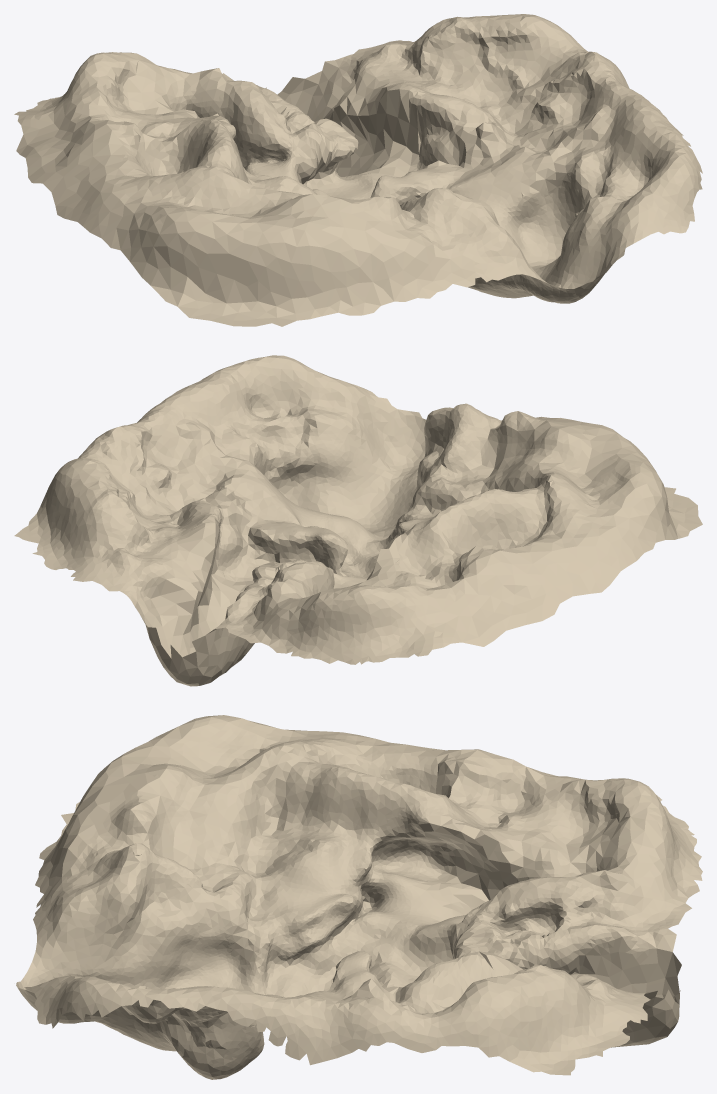
File: Environment.fbx
3 views of the same model, one above another, from view 1: azimuth 30°, elevation 25°; view 2: azimuth 150°, elevation 25°; view 3: azimuth 270°, elevation 25° (orthographic). The views are drawn at different scales.
Visible parts, largest first — view 1: Cube; view 2: Cube; view 3: Cube.
Part boxes in pixels (bbox=[...]): Cube: bbox=[14, 14, 702, 326]; Cube: bbox=[14, 355, 702, 686]; Cube: bbox=[16, 715, 702, 1079].
Size of the model in its own units: 1076 by 306 by 1032.
